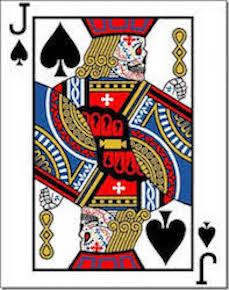JackOfSpades: (1, 1, 229, 289)
